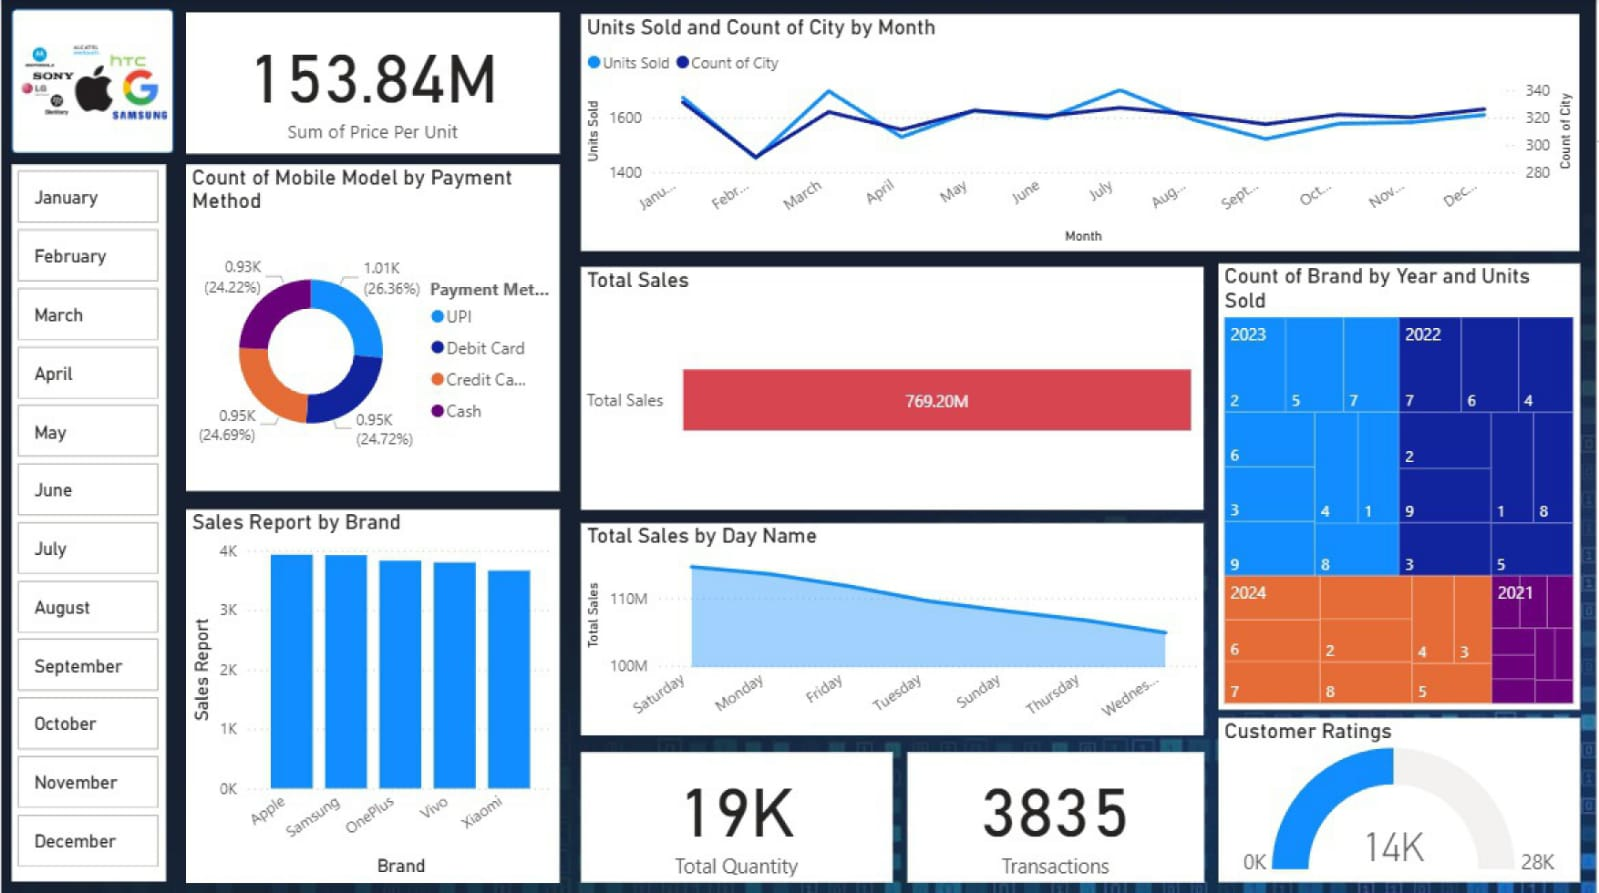

What the dashboard file says about the page in this screenshot:
{"tool":"powerbi","page":{"name":"Page 1","canvas":[1280,720],"ordinal":0},"visuals":[{"type":"shape","box":[8.8,8.8,130,116.2],"z":0},{"type":"clusteredColumnChart","fields":{"Y":["Sum(Sheet1.Units Sold)"],"Category":["Sheet1.Brand"]},"box":[148.8,410,300,300],"z":1000},{"type":"donutChart","fields":{"Y":["CountNonNull(Sheet1.Mobile Model)"],"Category":["Sheet1.Payment Method"]},"box":[148.8,133.8,300,262.5],"z":2000},{"type":"image","box":[8.8,11.2,130,113.8],"z":3000},{"type":"advancedSlicerVisual","fields":{"Values":["Sheet1.Date .Variation.Date Hierarchy.Month"]},"box":[8.8,133.8,123.8,576.2],"z":4000},{"type":"card","fields":{"Values":["Sum(Sheet1.Price Per Unit)"]},"box":[148.8,11.2,300,113.8],"z":5000},{"type":"gauge","fields":{"Y":["Sum(Sheet1.Customer Ratings)"]},"box":[976.7,578.3,290,131.7],"z":6000},{"type":"lineChart","fields":{"Y":["Sum(Sheet1.Units Sold)"],"Y2":["CountNonNull(Sheet1.City)"],"Category":["Sheet1.Date .Variation.Date Hierarchy.Month"]},"box":[465,11.7,801.7,190],"z":7000},{"type":"treemap","fields":{"Group":["Sales Data.Date .Variation.Date Hierarchy.Year"],"Values":["CountNonNull(Sales Data.Brand)"],"Details":["Sales Data.Units Sold"]},"box":[977.1,212.9,290,358.6],"z":8000},{"type":"funnel","fields":{"Y":["Sheet1.Total Sales"]},"box":[465,215,500,195],"z":9000},{"type":"card","fields":{"Values":["Sheet1.Total Quantity"]},"box":[465,605,250,105],"z":10000},{"type":"card","fields":{"Values":["Sheet1.Transactions"]},"box":[726.7,605,238.3,105],"z":11000},{"type":"stackedAreaChart","fields":{"Category":["Sheet1.Day Name"],"Y":["Sheet1.Total Sales"]},"box":[465,421.7,500,170],"z":12000}]}

Visuals, with their boxes in screenshot pixels (x1, y1, x2, y2), scaled from the page's 1280x720 canvas onto the 1599x893 screenshot:
shape: pyautogui.locateOnScreen(11, 11, 173, 155)
clusteredColumnChart - Sum(Sheet1.Units Sold) x Sheet1.Brand: pyautogui.locateOnScreen(186, 509, 561, 881)
donutChart - CountNonNull(Sheet1.Mobile Model) x Sheet1.Payment Method: pyautogui.locateOnScreen(186, 166, 561, 492)
image: pyautogui.locateOnScreen(11, 14, 173, 155)
advancedSlicerVisual - Sheet1.Date .Variation.Date Hierarchy.Month: pyautogui.locateOnScreen(11, 166, 166, 881)
card - Sum(Sheet1.Price Per Unit): pyautogui.locateOnScreen(186, 14, 561, 155)
gauge - Sum(Sheet1.Customer Ratings): pyautogui.locateOnScreen(1220, 717, 1582, 881)
lineChart - Sum(Sheet1.Units Sold) x CountNonNull(Sheet1.City): pyautogui.locateOnScreen(581, 15, 1582, 250)
treemap - Sales Data.Date .Variation.Date Hierarchy.Year x CountNonNull(Sales Data.Brand): pyautogui.locateOnScreen(1221, 264, 1583, 709)
funnel - Sheet1.Total Sales: pyautogui.locateOnScreen(581, 267, 1205, 509)
card - Sheet1.Total Quantity: pyautogui.locateOnScreen(581, 750, 893, 881)
card - Sheet1.Transactions: pyautogui.locateOnScreen(908, 750, 1205, 881)
stackedAreaChart - Sheet1.Day Name x Sheet1.Total Sales: pyautogui.locateOnScreen(581, 523, 1205, 734)
